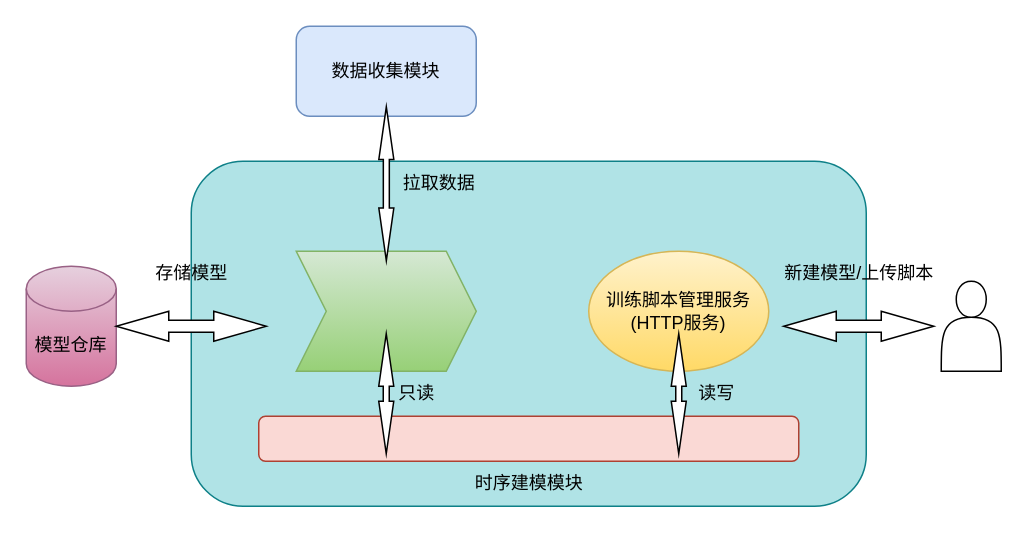
Some shapes in this 1028 by 533 pixel diagram are drawn without their labels. The shapes that lost their labels are listed below. From the top down, each one's centre as x and y in pixels, then its label:
the point at 385,310: 训练任务
the point at 528,438: 训练脚本仓库
